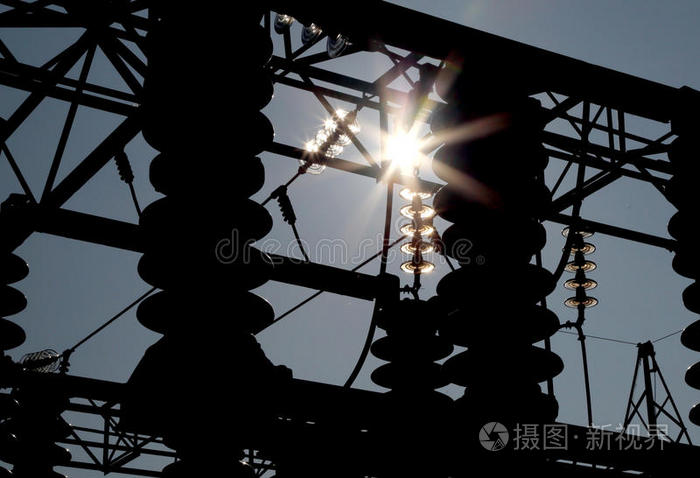insulator: (299, 109, 358, 173), (561, 227, 601, 312), (397, 187, 435, 275)
